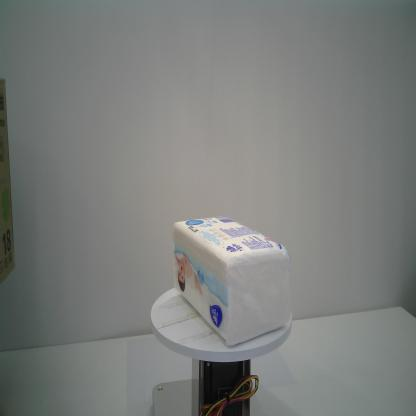Tissue: (172, 216, 292, 348)
